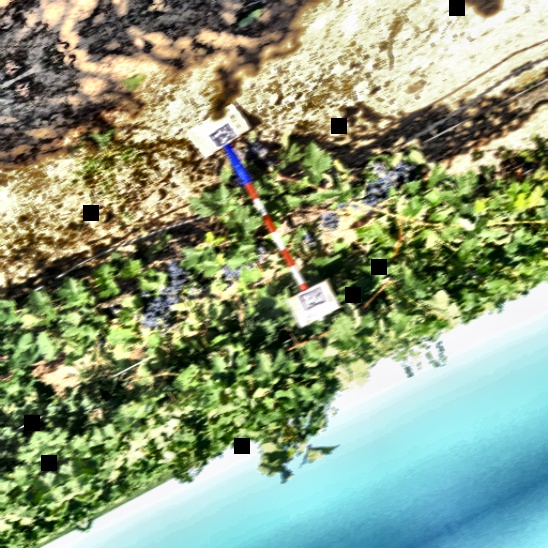QR: (208, 121, 237, 148), (299, 286, 326, 311)
